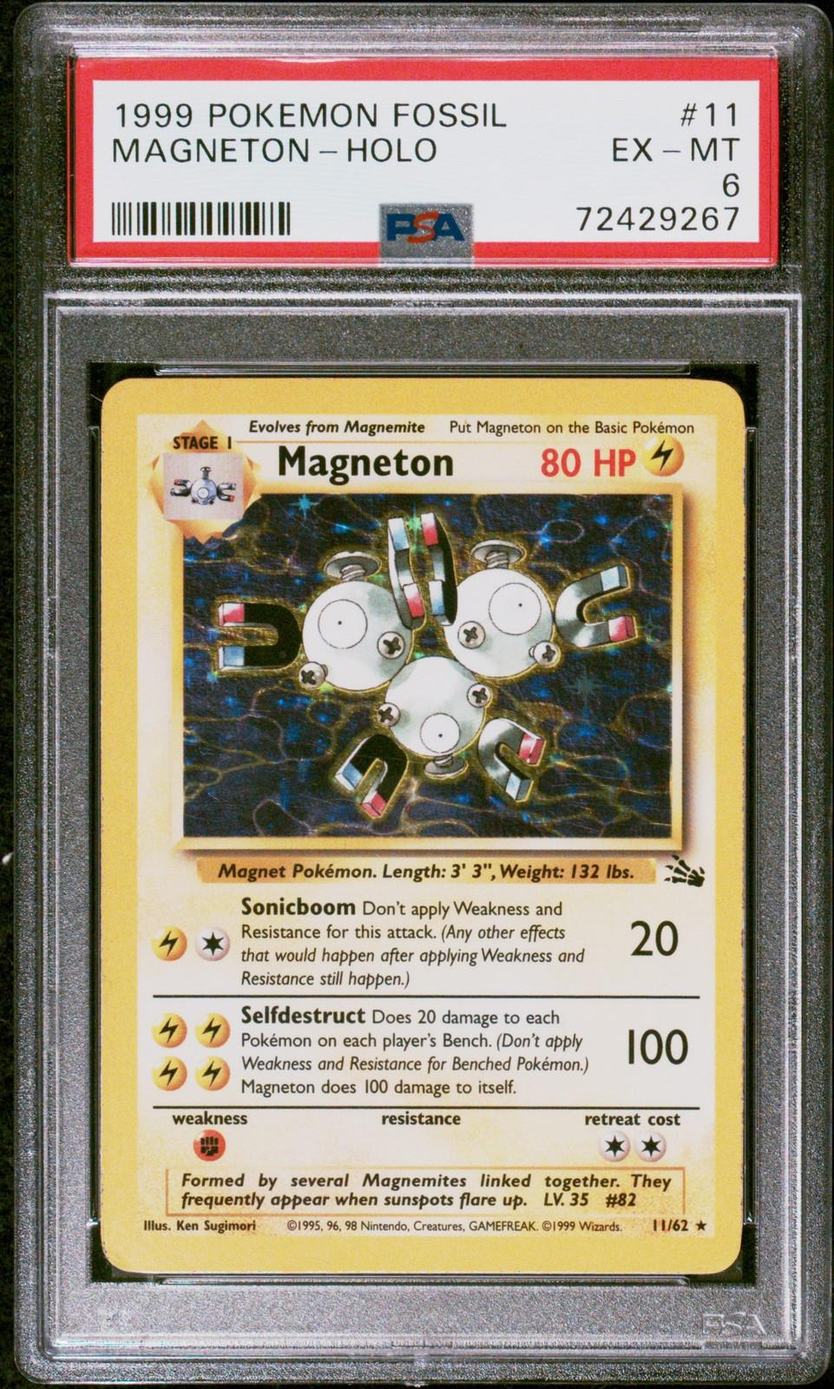card-2UtV: (99, 377, 746, 1275)
